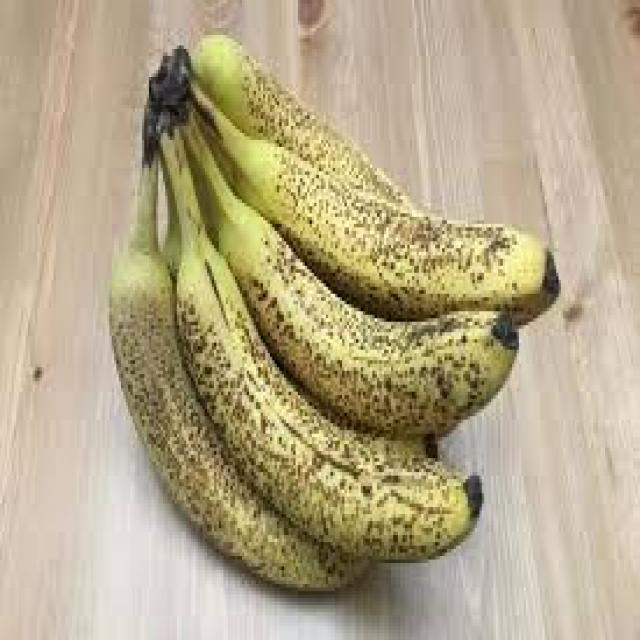organic waste: (144, 56, 480, 560), (160, 39, 516, 430), (107, 95, 377, 588), (163, 45, 558, 329), (186, 28, 414, 203)
